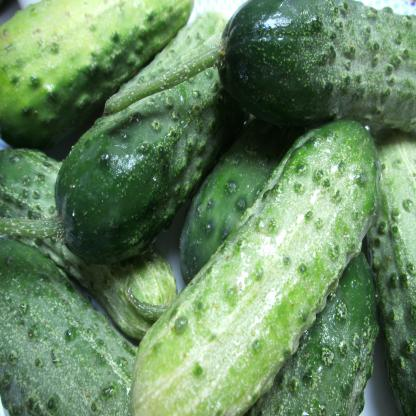--: (118, 122, 386, 416), (181, 2, 416, 126)
